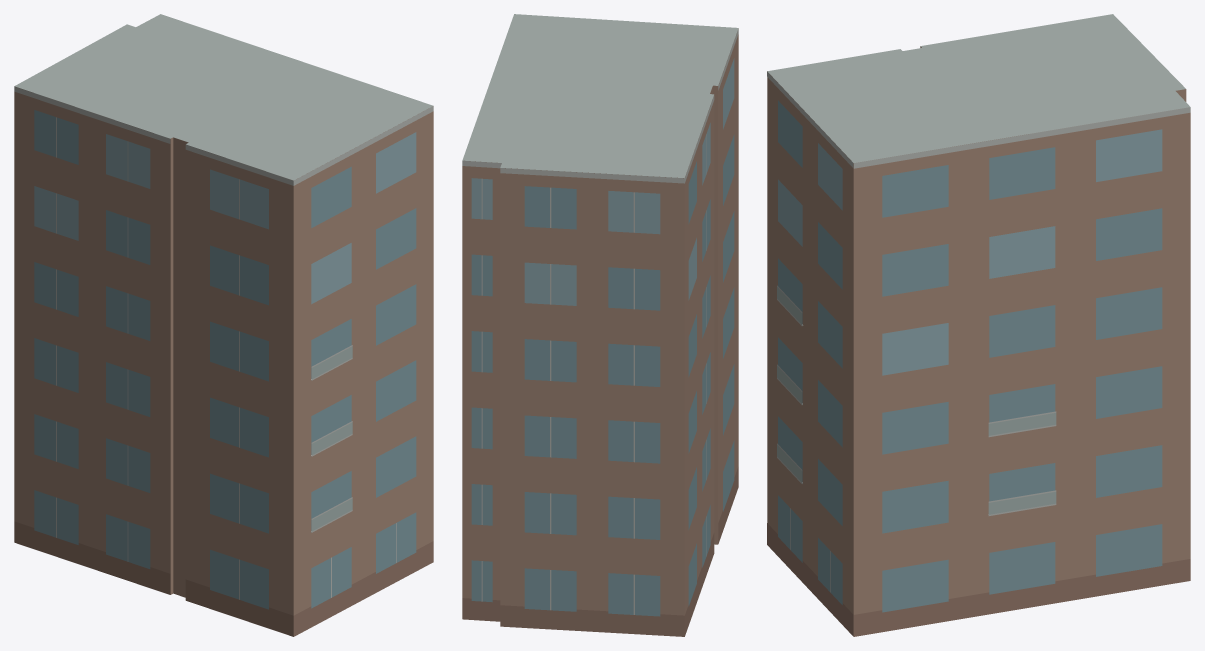
The model's file is survey-upis-33015067.glb.
The picture shows the model from 3 angles, left to right: view 1: azimuth 30°, elevation 25°; view 2: azimuth 150°, elevation 25°; view 3: azimuth 270°, elevation 25°; orthographic projection. The views are drawn at different scales.
Visible parts, largest first — view 1: survey-upis-33015067.tmp; view 2: survey-upis-33015067.tmp; view 3: survey-upis-33015067.tmp.
Part boxes in pixels (x1,y1,x2,y2): survey-upis-33015067.tmp: (14, 14, 433, 636); survey-upis-33015067.tmp: (462, 14, 738, 636); survey-upis-33015067.tmp: (767, 14, 1190, 636).
Size of the model in its own units: 14.13 by 20.9 by 16.94.
